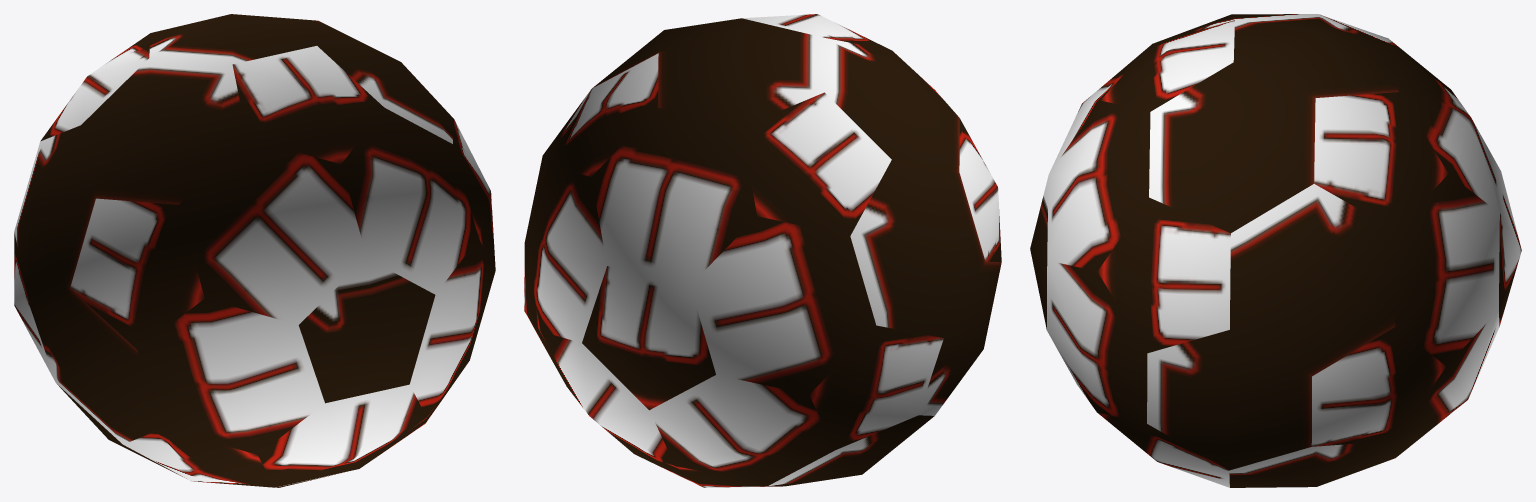
File: list.ico.obj
3 views of the same model, side by side, from view 1: azimuth 30°, elevation 25°; view 2: azimuth 150°, elevation 25°; view 3: azimuth 270°, elevation 25° (orthographic).
Bounding box in the file's own units: 3.02 × 3.1 × 3.16.
